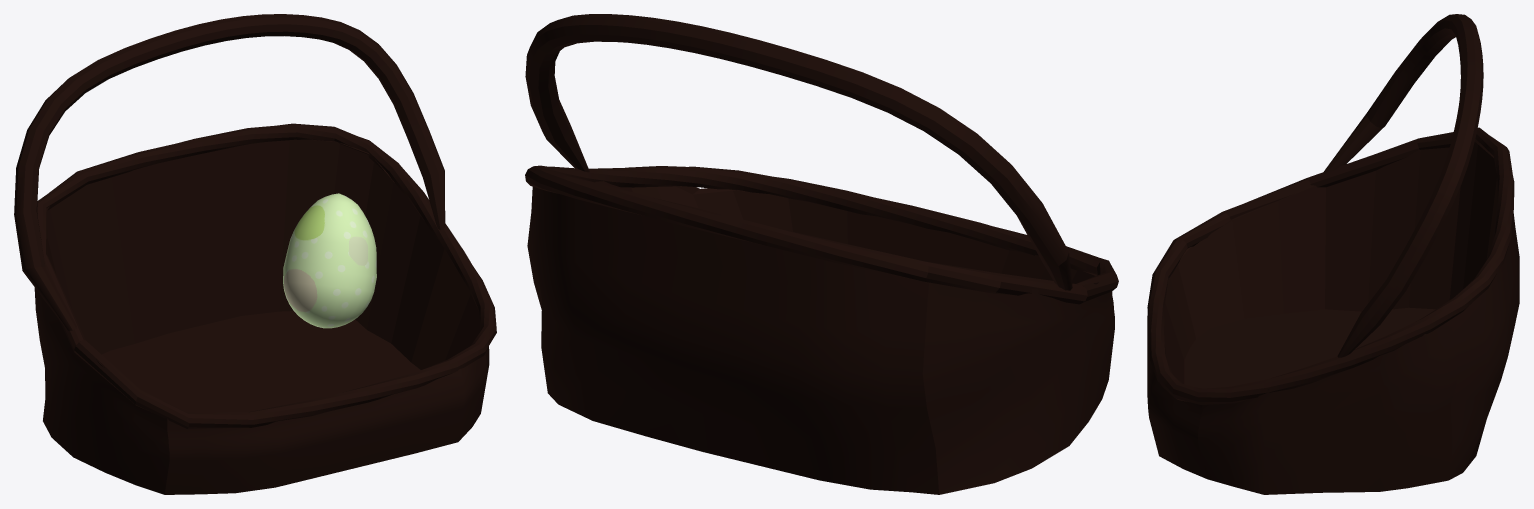
The model's file is basket_2.fbx.
3 renders of one model, left to right at view 1: azimuth 30°, elevation 25°; view 2: azimuth 150°, elevation 25°; view 3: azimuth 270°, elevation 25°, orthographic. The views are drawn at different scales.
Visible parts, largest first — view 1: pCube1, pCylinder1, pCylinder2, easteregg3:pSphere1; view 2: pCube1, pCylinder1, pCylinder2; view 3: pCube1, pCylinder1, pCylinder2.
Boxes of the visible parts, x1,y1,x2,y2 form: pCube1: (34,139,489,494); pCylinder1: (37,123,496,429); pCylinder2: (14,14,445,330); easteregg3:pSphere1: (283,193,376,328); pCube1: (527,181,1114,494); pCylinder1: (525,165,1118,304); pCylinder2: (525,14,1072,290); pCube1: (1147,142,1519,494); pCylinder1: (1147,127,1514,404); pCylinder2: (1323,14,1483,357).
Bounding box in the file's own units: 6.41 × 4.85 × 4.82.
4 materials, 1 textured.
